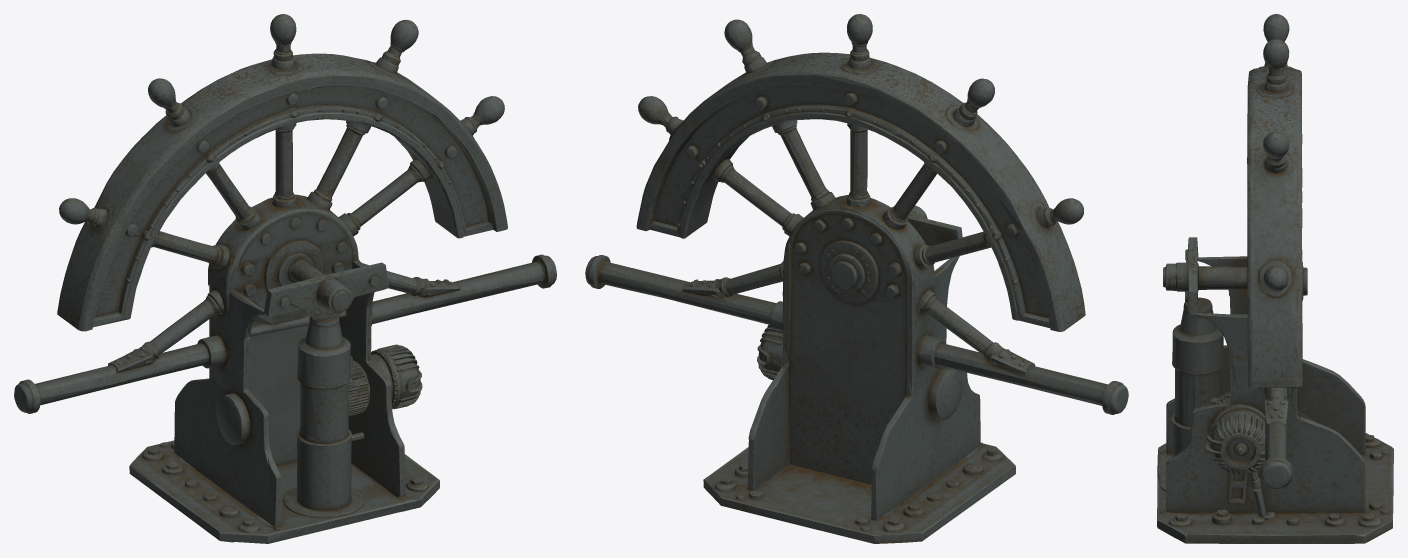
File: steering.glb
3 renders of one model, left to right at view 1: azimuth 30°, elevation 25°; view 2: azimuth 150°, elevation 25°; view 3: azimuth 270°, elevation 25°, orthographic. The views are drawn at different scales.
Bounding box in the file's own units: 1.9 × 1.6 × 0.7577.
1 material, 1 textured.
